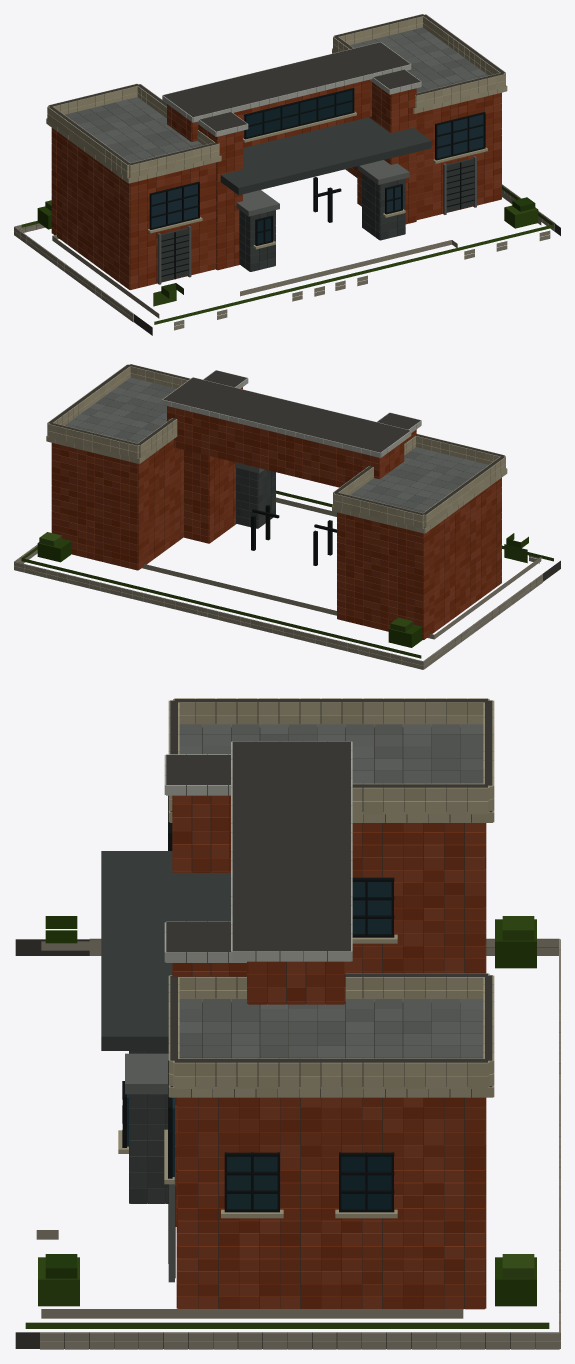
File: SM_StreetFrontage_080.fbx
The picture shows the model from 3 angles, top to bottom: view 1: azimuth 30°, elevation 25°; view 2: azimuth 150°, elevation 25°; view 3: azimuth 270°, elevation 25°; orthographic projection. The views are drawn at different scales.
Visible parts, largest first — view 1: SM_StreetFrontage_080; view 2: SM_StreetFrontage_080; view 3: SM_StreetFrontage_080.
Boxes of the visible parts, x1,y1,x2,y2 form: SM_StreetFrontage_080: [14, 14, 560, 335]; SM_StreetFrontage_080: [14, 364, 560, 669]; SM_StreetFrontage_080: [15, 698, 560, 1349].
Size of the model in its own units: 32 by 18.75 by 11.58.
